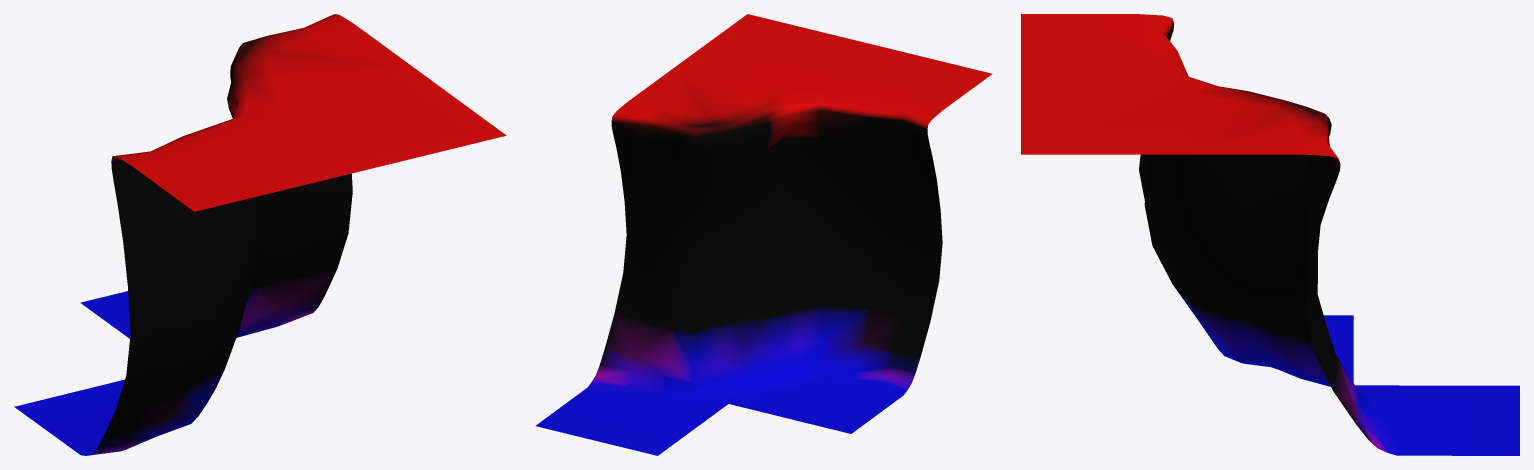
File: GroundCliff05A 2M for Water Background.fbx
The picture shows the model from 3 angles, left to right: view 1: azimuth 30°, elevation 25°; view 2: azimuth 150°, elevation 25°; view 3: azimuth 270°, elevation 25°; orthographic projection. The views are drawn at different scales.
Visible parts, largest first — view 1: GroundCliff05A 2M for Water Background; view 2: GroundCliff05A 2M for Water Background; view 3: GroundCliff05A 2M for Water Background.
Part boxes in pixels (x1,y1,x2,y2): GroundCliff05A 2M for Water Background: [14, 14, 506, 455]; GroundCliff05A 2M for Water Background: [536, 14, 992, 455]; GroundCliff05A 2M for Water Background: [1021, 14, 1519, 455].
Bounding box in the file's own units: 2 × 2 × 3.
